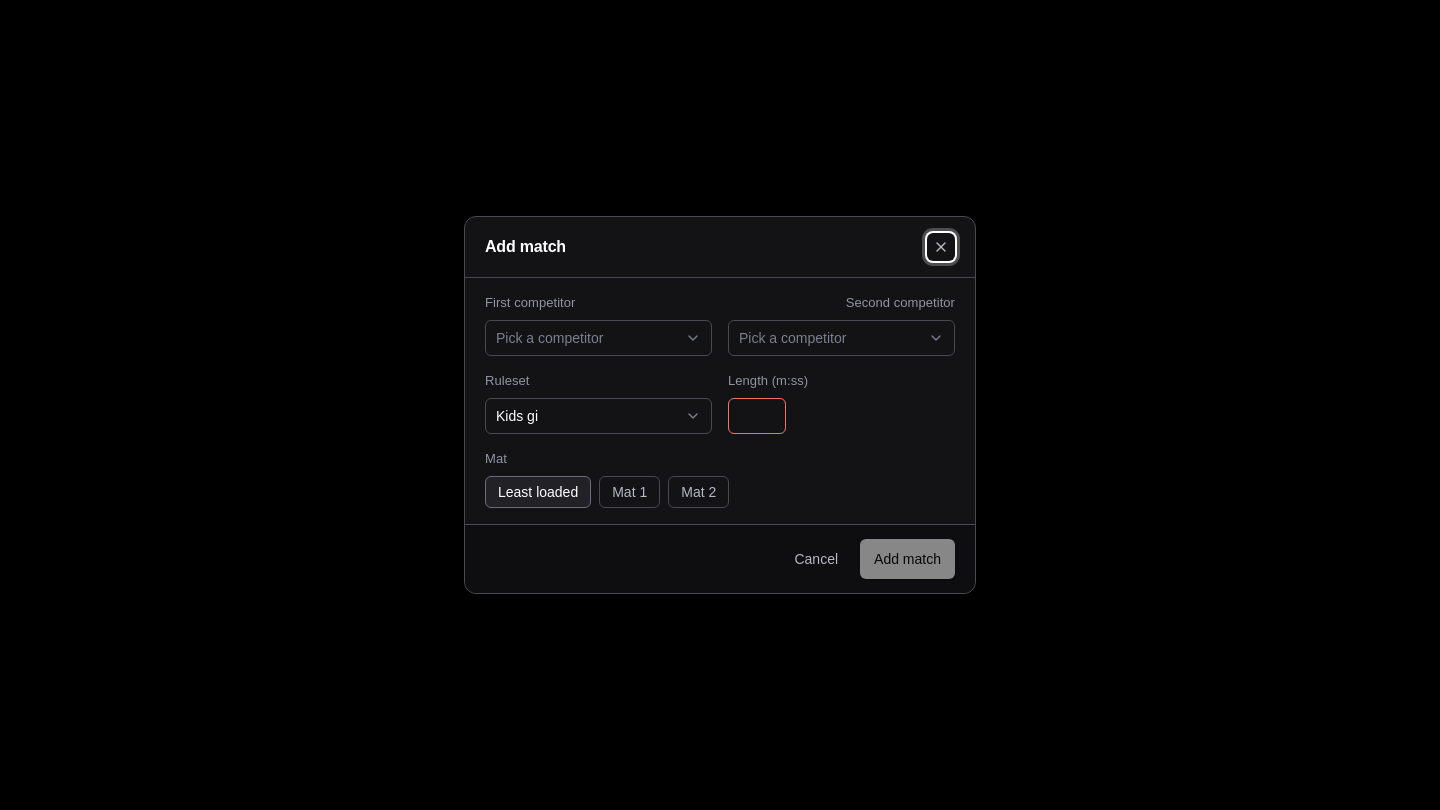
Test: AddMatchDialog › keeps the second slot to the teams the first one is not on
Step 1. Click the dropdown named "First competitor" → (598, 338), box [485, 320, 712, 356]
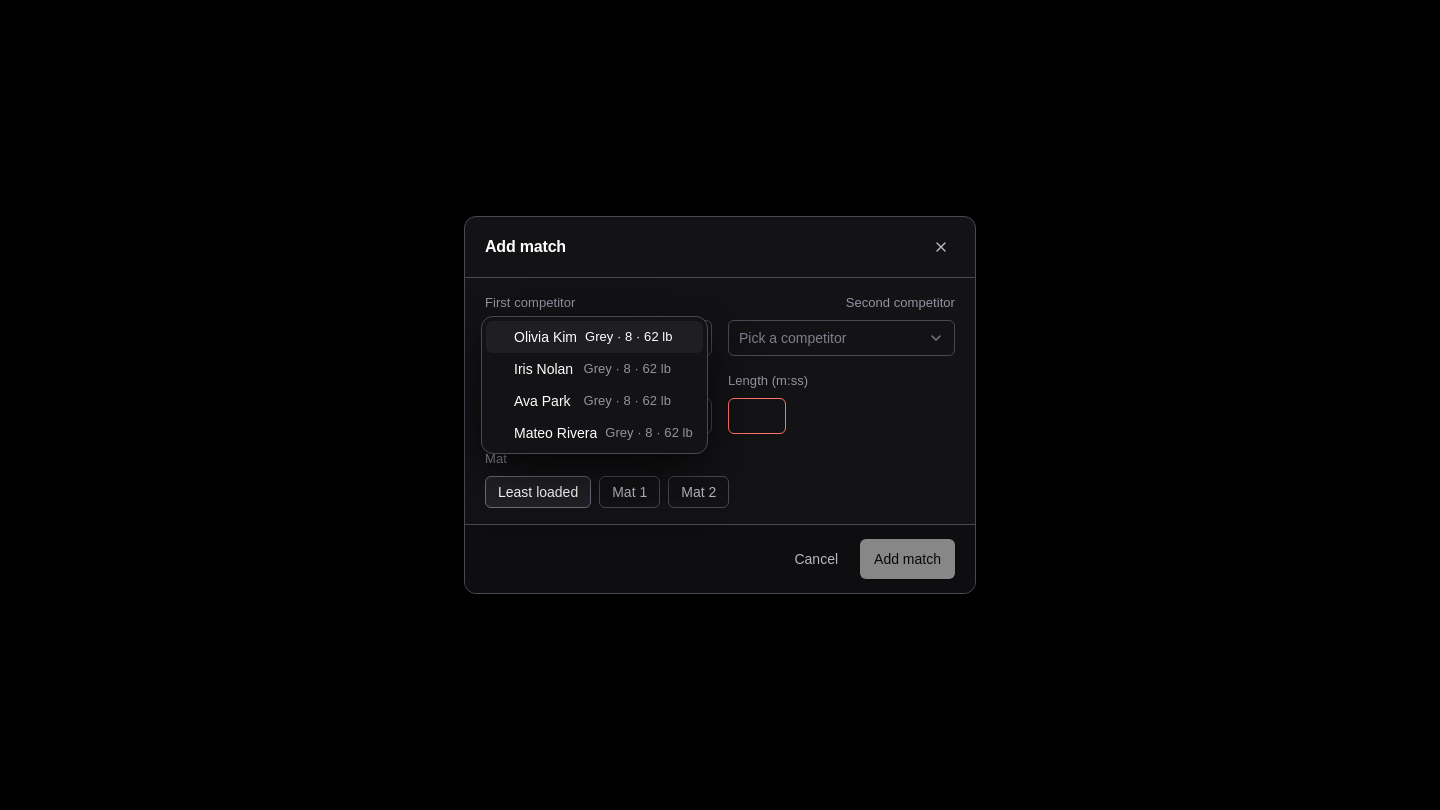
Step 2. Click the option "Mateo Rivera Grey · 8 · 62 lb" → (594, 433), box [486, 417, 703, 449]
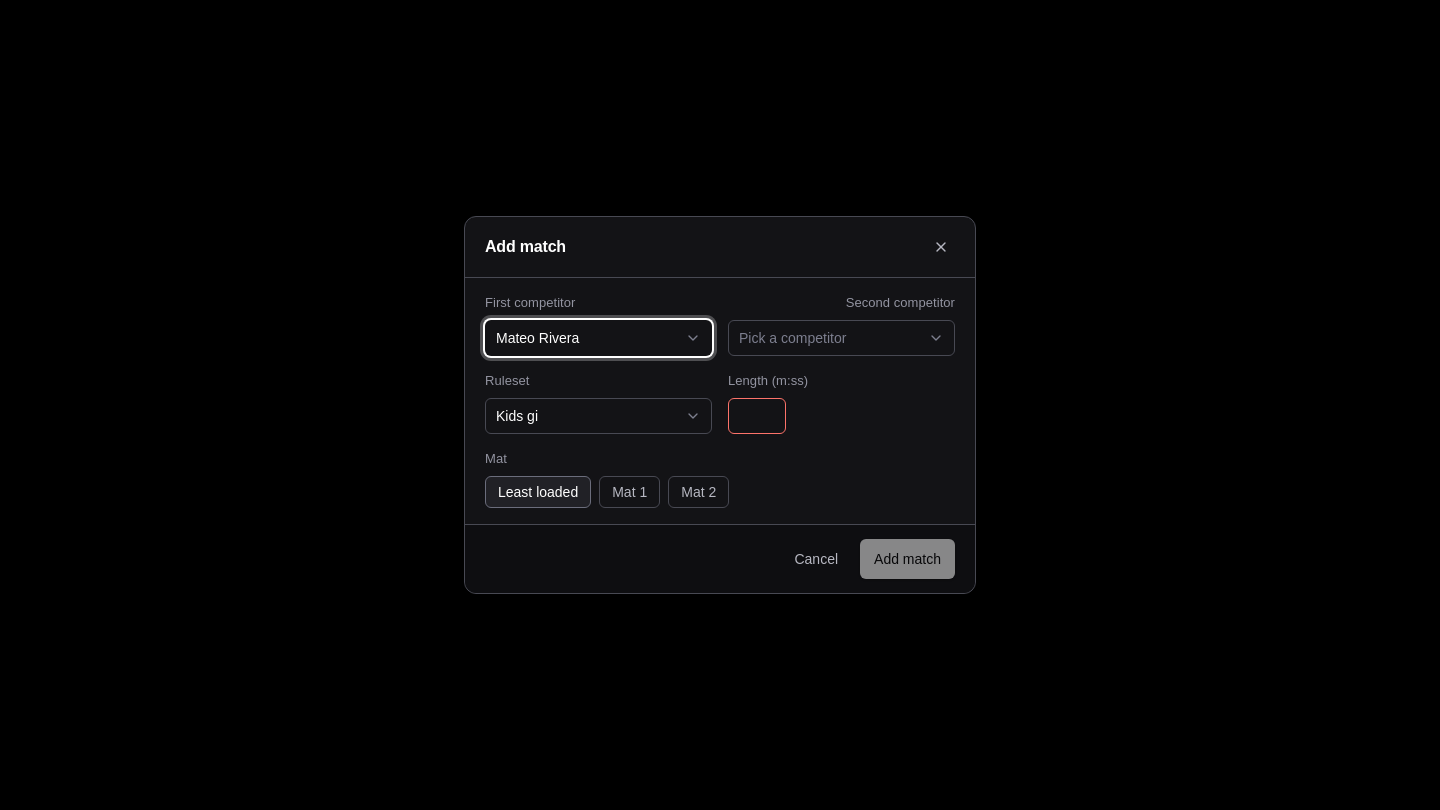
Step 3. Click the dropdown named "Second competitor" → (842, 338), box [728, 320, 955, 356]
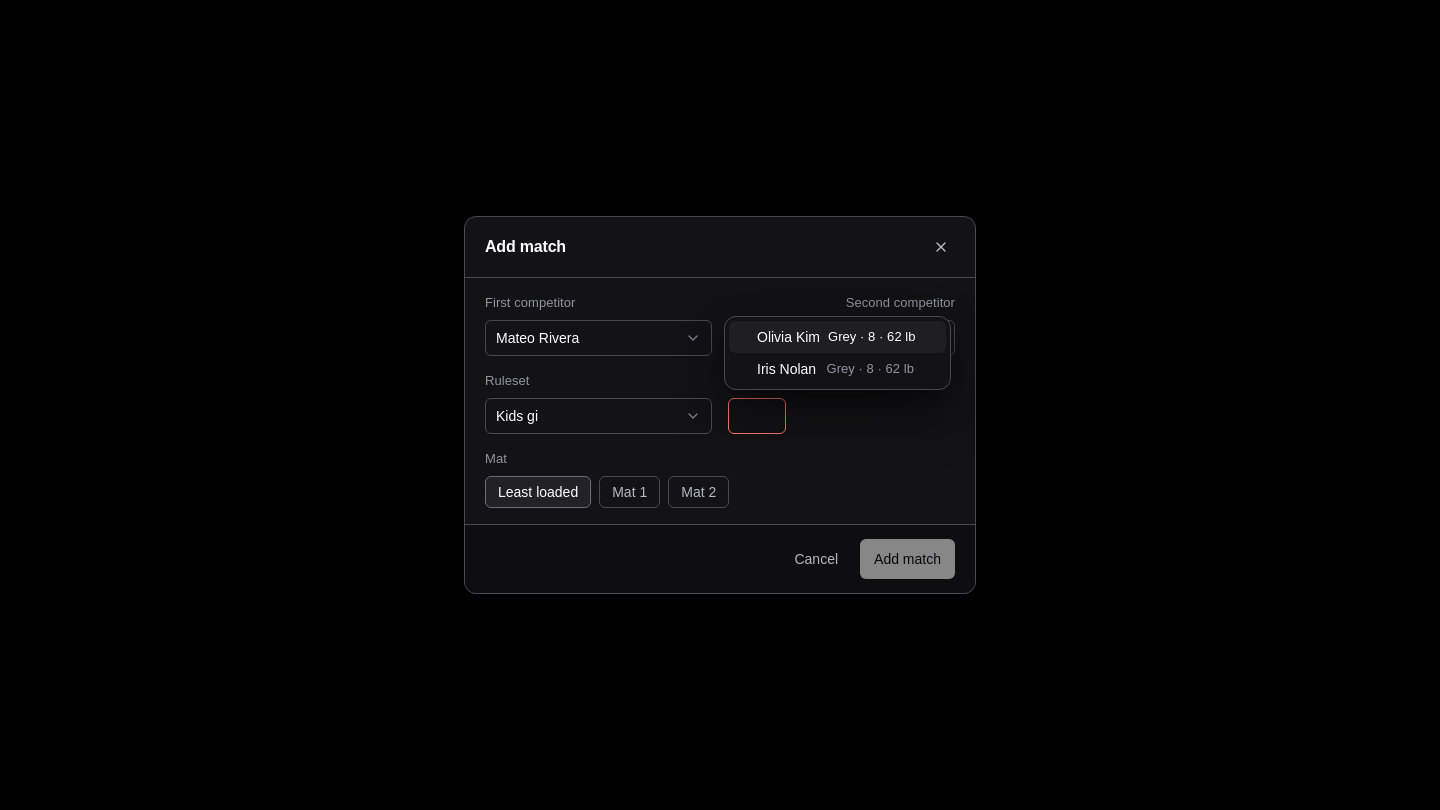
Expected: the option "Ava Park" is not shown
Expected: the option "Olivia Kim Grey · 8 · 62 lb" is shown, [729, 321, 946, 353]
Expected: the option "Iris Nolan Grey · 8 · 62 lb" is shown, [738, 361, 914, 385]
